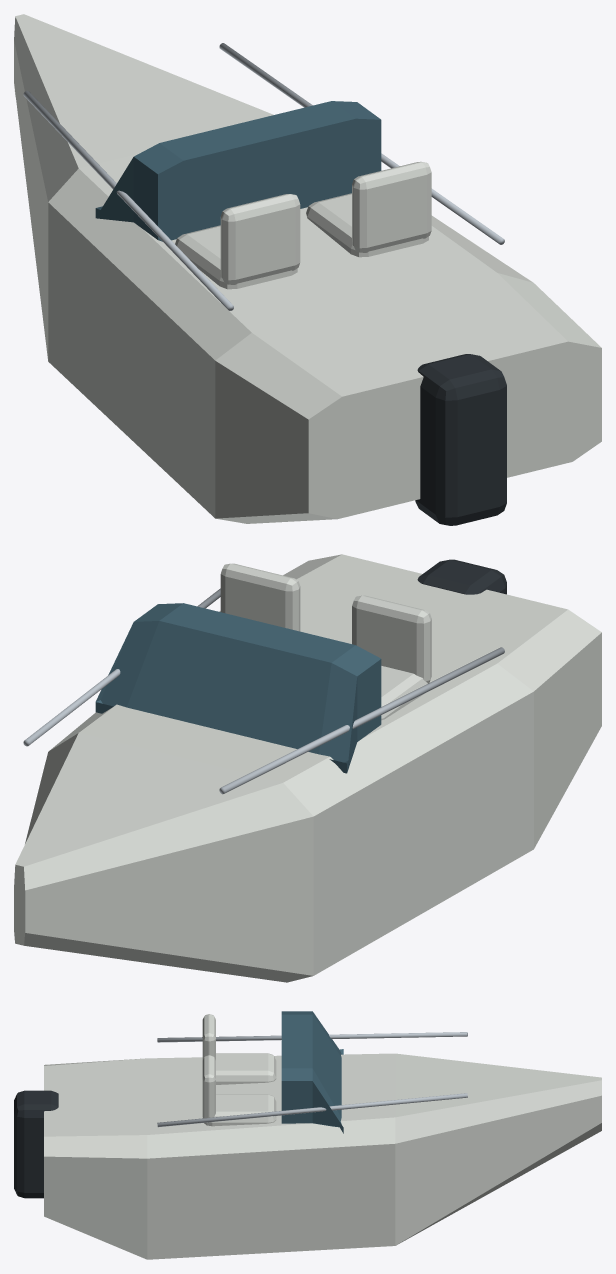
The model's file is mc_boat.glb.
The picture shows the model from 3 angles, top to bottom: view 1: azimuth 30°, elevation 25°; view 2: azimuth 150°, elevation 25°; view 3: azimuth 270°, elevation 25°; orthographic projection. The views are drawn at different scales.
Visible parts, largest first — view 1: mc_boat__Geometry; view 2: mc_boat__Geometry; view 3: mc_boat__Geometry.
Boxes of the visible parts, left/top/right/bottom form: mc_boat__Geometry: left=14, top=14, right=601, bottom=525; mc_boat__Geometry: left=14, top=554, right=601, bottom=982; mc_boat__Geometry: left=14, top=1011, right=601, bottom=1259.
Bounding box in the file's own units: 2.28 × 1.89 × 5.69.
